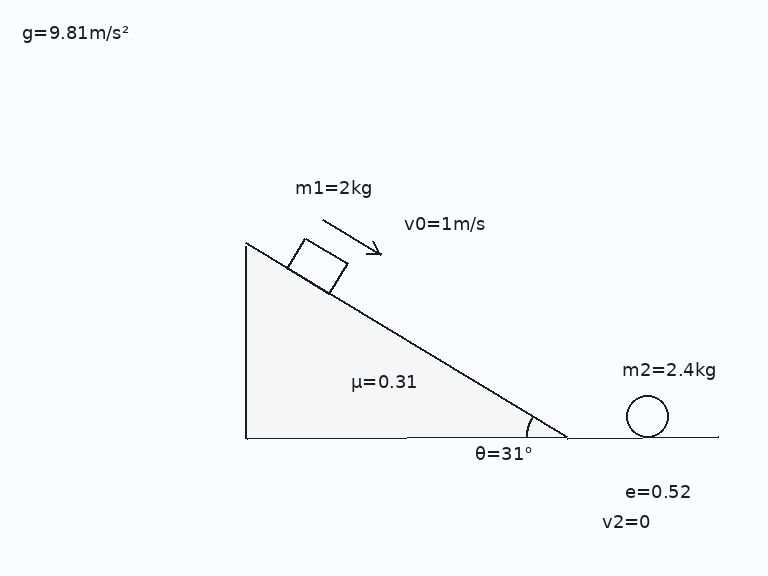ball: (624, 393, 670, 439)
block: (285, 236, 349, 296)
ramp: (244, 242, 569, 439)
